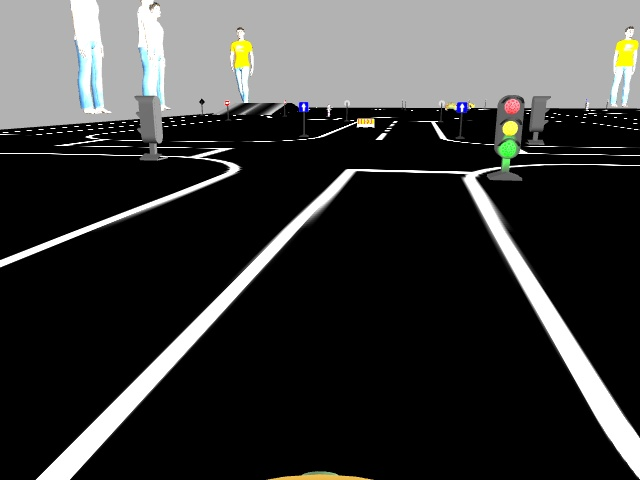ClosedRoadStand: (357, 118, 374, 127)
OneWay: (457, 101, 466, 112), (299, 101, 307, 111)
TrafficLight: (495, 95, 523, 158)
